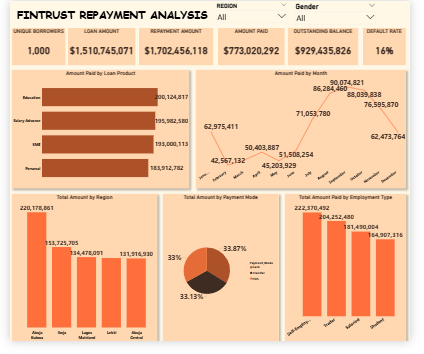

This screenshot's page, from the dashboard's own definition file:
{"tool":"powerbi","page":{"name":"PAYMENT","canvas":[2000,1700],"ordinal":1},"visuals":[{"type":"card","title":"UNIQUE BORROWERS","fields":{"Values":["CountNonNull(Loan.Loan_ID)"]},"box":[9.8,135.3,266.7,186.3],"z":0},{"type":"card","title":"AMOUNT PAID","fields":{"Values":["Sum(Payment.Amount_Paid)"]},"box":[1039.2,135.3,333.3,186.3],"z":1000},{"type":"card","title":"OUTSTANDING BALANCE","fields":{"Values":["1  unique borrowers.Oustanding balance"]},"box":[1392.2,135.3,351,186.3],"z":2000},{"type":"card","title":"LOAN AMOUNT","fields":{"Values":["Sum(Loan.Loan_Amount)"]},"box":[290.2,135.3,337.3,186.3],"z":3000},{"type":"card","title":"REPAYMENT AMOUNT","fields":{"Values":["Sum(Loan.Repayment_Amount)"]},"box":[647.1,135.3,370.6,186.3],"z":4000},{"type":"card","title":"DEFAULT RATE","fields":{"Values":["1  unique borrowers.DEFAULT%"]},"box":[1764.7,135.3,213.7,186.3],"z":5000},{"type":"clusteredBarChart","title":"Amount Paid by Loan Product","fields":{"Category":["Loan.Loan_Product"],"Y":["Sum(Payment.Amount_Paid)"]},"box":[11.1,347.2,886.1,591.7],"z":6000},{"type":"lineChart","title":"Amount Paid by Month","fields":{"Y":["Sum(Payment.Amount_Paid)"],"Category":["Payment.Payment_Date.Variation.Date Hierarchy.Month"]},"box":[927.8,347.2,1050,591.7],"z":7000},{"type":"columnChart","title":"Total Amount Paid by Employment Type","fields":{"Category":["customers.Employment_Type"],"Y":["Sum(Payment.Amount_Paid)"]},"box":[1372.7,963.6,606.1,736.4],"z":8000},{"type":"pieChart","title":"Total Amount by Payment Mode","fields":{"Category":["Payment.Payment_Mode"],"Y":["Sum(Payment.Amount_Paid)"]},"box":[763.6,963.6,578.8,736.4],"z":9000},{"type":"columnChart","title":"Total Amount by Region","fields":{"Category":["customers.Region"],"Y":["Sum(Payment.Amount_Paid)"]},"box":[9.1,963.6,727.3,736.4],"z":10000},{"type":"slicer","fields":{"Values":["customers.Region"]},"box":[1019.4,0,374.2,135.5],"z":11000},{"type":"slicer","fields":{"Values":["customers.Gender"]},"box":[1416.1,0,422.6,135.5],"z":12000},{"type":"textbox","box":[32.3,22.6,1006.5,93.5],"z":13000}]}

Visuals, with their boxes in screenshot pixels (x1, y1, x2, y2), scaled from the page's 2000x1700 canvas onto the 424x354 screenshot:
"UNIQUE BORROWERS" card: Rect(2, 28, 59, 67)
"AMOUNT PAID" card: Rect(220, 28, 291, 67)
"OUTSTANDING BALANCE" card: Rect(295, 28, 370, 67)
"LOAN AMOUNT" card: Rect(62, 28, 133, 67)
"REPAYMENT AMOUNT" card: Rect(137, 28, 216, 67)
"DEFAULT RATE" card: Rect(374, 28, 419, 67)
"Amount Paid by Loan Product" clusteredBarChart: Rect(2, 72, 190, 196)
"Amount Paid by Month" lineChart: Rect(197, 72, 419, 196)
"Total Amount Paid by Employment Type" columnChart: Rect(291, 201, 420, 353)
"Total Amount by Payment Mode" pieChart: Rect(162, 201, 285, 353)
"Total Amount by Region" columnChart: Rect(2, 201, 156, 353)
slicer - customers.Region: Rect(216, 0, 295, 28)
slicer - customers.Gender: Rect(300, 0, 390, 28)
textbox: Rect(7, 5, 220, 24)
